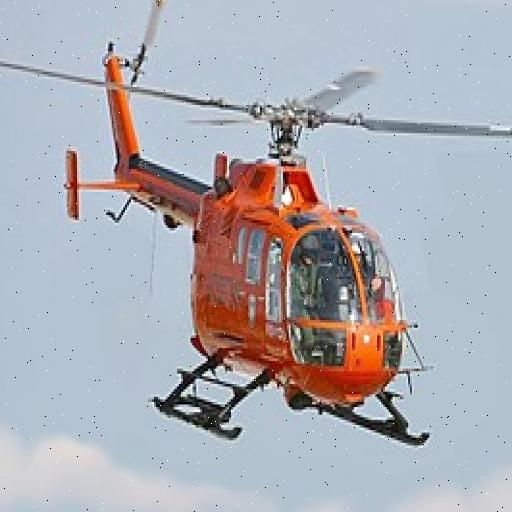helicopter: (1, 1, 512, 454)
